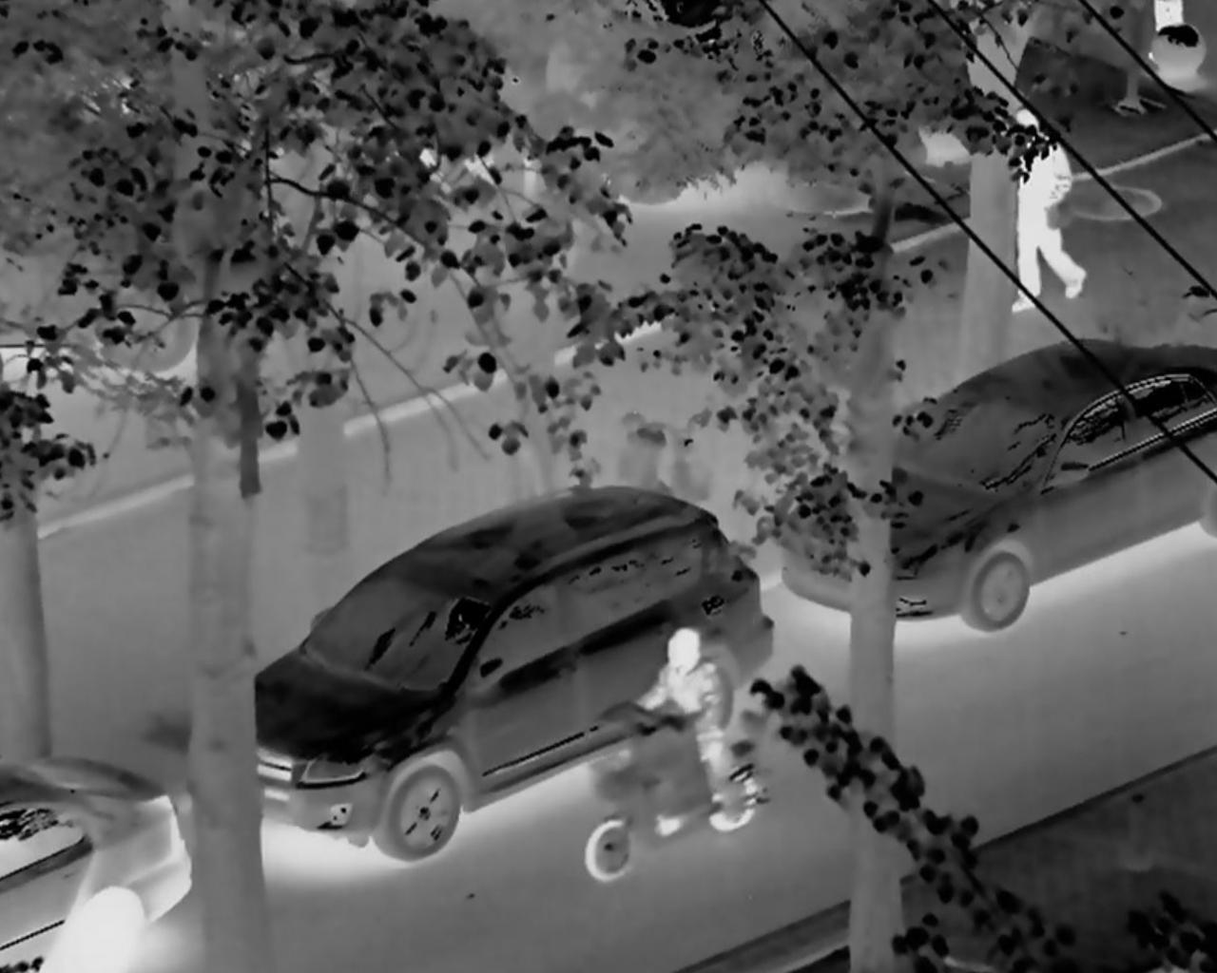person: (589, 630, 773, 867), (993, 96, 1104, 321)
